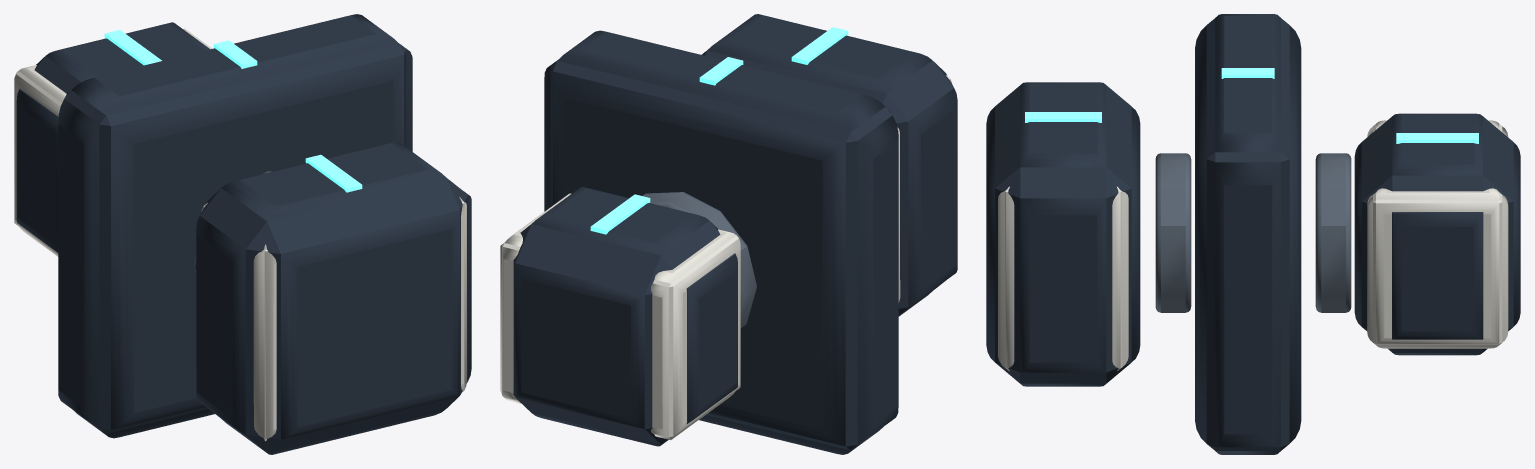
File: capability_seam.glb
The picture shows the model from 3 angles, left to right: view 1: azimuth 30°, elevation 25°; view 2: azimuth 150°, elevation 25°; view 3: azimuth 270°, elevation 25°; orthographic projection. The views are drawn at different scales.
Visible parts, largest first — view 1: capability_seam__definition, capability_seam__provider, capability_seam__consumer, capability_seam__ivory_armor, capability_seam__ivory_armor__05, capability_seam__ivory_armor__02, capability_seam__emissive, capability_seam__emissive__03, capability_seam__emissive__02; view 2: capability_seam__definition, capability_seam__consumer, capability_seam__provider, capability_seam__ivory_armor__05, capability_seam__ivory_armor__06, capability_seam__consumer_DCI-M_frame, capability_seam__emissive__03, capability_seam__emissive, capability_seam__emissive__02; view 3: capability_seam__definition, capability_seam__provider, capability_seam__consumer, capability_seam__ivory_armor__06, capability_seam__ivory_armor__02, capability_seam__consumer_DCI-M_frame, capability_seam__provider_DCI-M_frame, capability_seam__emissive__03, capability_seam__emissive, capability_seam__emissive__02.
Boxes of the visible parts, box(x1,y1,x2,y2) form: capability_seam__definition: box(58, 14, 412, 438); capability_seam__provider: box(196, 141, 471, 454); capability_seam__consumer: box(16, 22, 209, 252); capability_seam__ivory_armor: box(201, 203, 276, 441); capability_seam__ivory_armor__05: box(14, 65, 66, 256); capability_seam__ivory_armor__02: box(459, 197, 466, 392); capability_seam__emissive: box(305, 154, 362, 192); capability_seam__emissive__03: box(104, 30, 161, 65); capability_seam__emissive__02: box(213, 40, 257, 68); capability_seam__definition: box(544, 30, 898, 454); capability_seam__consumer: box(513, 187, 737, 446); capability_seam__provider: box(701, 14, 957, 316); capability_seam__ivory_armor__05: box(651, 229, 740, 439); capability_seam__ivory_armor__06: box(500, 193, 571, 403); capability_seam__consumer_DCI-M_frame: box(643, 192, 756, 328); capability_seam__emissive__03: box(590, 194, 650, 234); capability_seam__emissive: box(791, 27, 848, 64); capability_seam__emissive__02: box(699, 57, 743, 85); capability_seam__definition: box(1195, 14, 1301, 454); capability_seam__provider: box(986, 82, 1140, 386); capability_seam__consumer: box(1354, 113, 1520, 355); capability_seam__ivory_armor__06: box(1367, 188, 1508, 348); capability_seam__ivory_armor__02: box(998, 186, 1128, 371); capability_seam__consumer_DCI-M_frame: box(1315, 153, 1351, 312); capability_seam__provider_DCI-M_frame: box(1155, 153, 1191, 312); capability_seam__emissive__03: box(1396, 133, 1478, 143); capability_seam__emissive: box(1025, 112, 1101, 122); capability_seam__emissive__02: box(1221, 68, 1274, 78).
Size of the model in its own units: 1.6 by 1.6 by 2.4.
